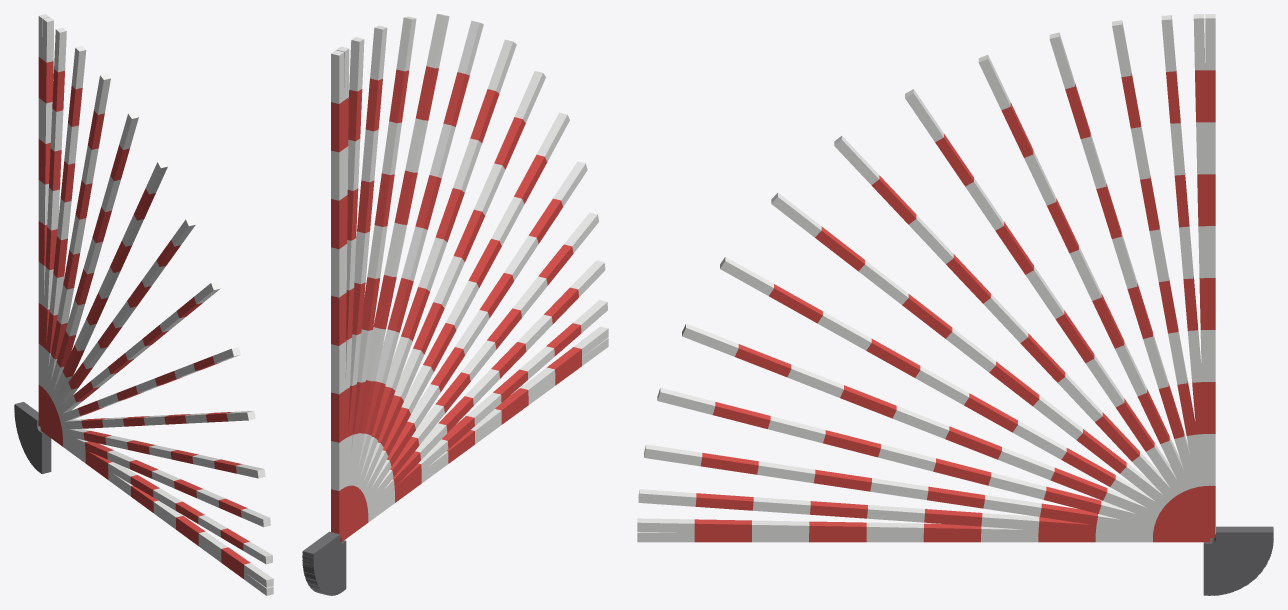
Rendered from azd_zavora_pohyb.glb.
3 renders of one model, left to right at view 1: azimuth 30°, elevation 25°; view 2: azimuth 150°, elevation 25°; view 3: azimuth 270°, elevation 25°, orthographic. The views are drawn at different scales.
Parts seen in each view (by area): view 1: zavora_12, zavora_11, zavora_10, zavora_13, zavora_09, zavora_14, zavora_08, zavora_02, zavora_03, zavora_07, zavora_04, zavora_00 (+4 smaller); view 2: zavora_09, zavora_08, zavora_10, zavora_15, zavora_07, zavora_11, zavora_06, zavora_05, zavora_12, zavora_04, zavora_03, zavora_13 (+4 smaller); view 3: zavora_04, zavora_06, zavora_05, zavora_03, zavora_07, zavora_02, zavora_09, zavora_08, zavora_10, zavora_00, zavora_11, zavora_12 (+4 smaller).
Part boxes in pixels (x1=…): zavora_12: x1=33, y1=46, x2=86, y2=470; zavora_11: x1=30, y1=73, x2=110, y2=467; zavora_10: x1=27, y1=112, x2=138, y2=464; zavora_13: x1=38, y1=27, x2=66, y2=472; zavora_09: x1=24, y1=160, x2=167, y2=459; zavora_14: x1=36, y1=17, x2=53, y2=473; zavora_08: x1=21, y1=217, x2=195, y2=453; zavora_02: x1=14, y1=407, x2=272, y2=564; zavora_03: x1=14, y1=411, x2=270, y2=527; zavora_07: x1=19, y1=281, x2=220, y2=446; zavora_04: x1=15, y1=421, x2=265, y2=478; zavora_00: x1=14, y1=402, x2=273, y2=595; zavora_09: x1=314, y1=20, x2=483, y2=594; zavora_08: x1=310, y1=39, x2=516, y2=594; zavora_10: x1=318, y1=14, x2=449, y2=595; zavora_15: x1=331, y1=50, x2=346, y2=592; zavora_07: x1=307, y1=71, x2=545, y2=591; zavora_11: x1=331, y1=16, x2=416, y2=595; zavora_06: x1=305, y1=112, x2=569, y2=587; zavora_05: x1=303, y1=161, x2=587, y2=583; zavora_12: x1=334, y1=25, x2=387, y2=595; zavora_04: x1=303, y1=212, x2=598, y2=578; zavora_03: x1=302, y1=260, x2=605, y2=573; zavora_13: x1=338, y1=37, x2=364, y2=594; zavora_04: x1=657, y1=387, x2=1272, y2=559; zavora_06: x1=720, y1=257, x2=1267, y2=573; zavora_05: x1=682, y1=323, x2=1270, y2=566; zavora_03: x1=644, y1=444, x2=1273, y2=553; zavora_07: x1=771, y1=193, x2=1262, y2=579; zavora_02: x1=638, y1=489, x2=1273, y2=548; zavora_09: x1=905, y1=89, x2=1248, y2=589; zavora_08: x1=834, y1=136, x2=1255, y2=585; zavora_10: x1=978, y1=55, x2=1241, y2=593; zavora_00: x1=637, y1=526, x2=1273, y2=544; zavora_11: x1=1049, y1=32, x2=1233, y2=594; zavora_12: x1=1112, y1=20, x2=1226, y2=595.
Size of the model in its own units: 0.12 by 5.55 by 5.55.
